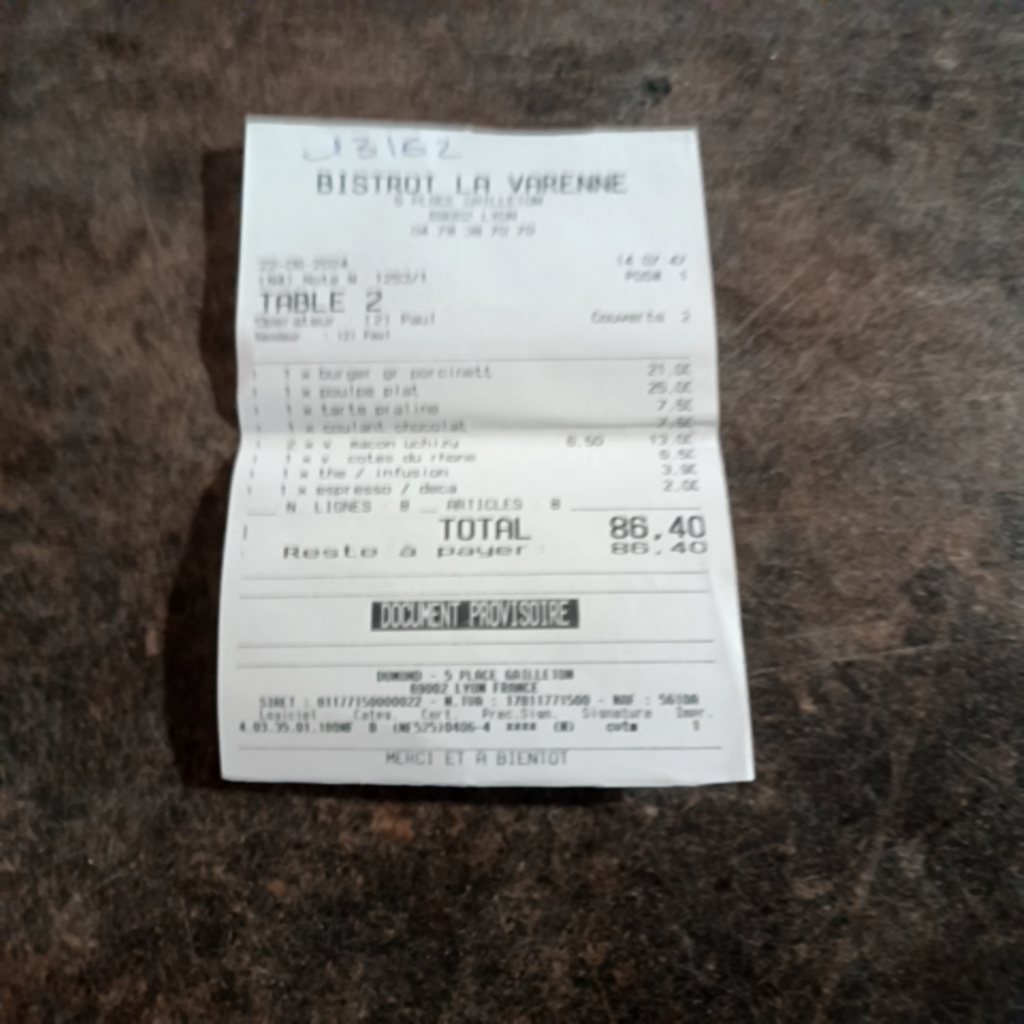recipt: (220, 117, 758, 791)
